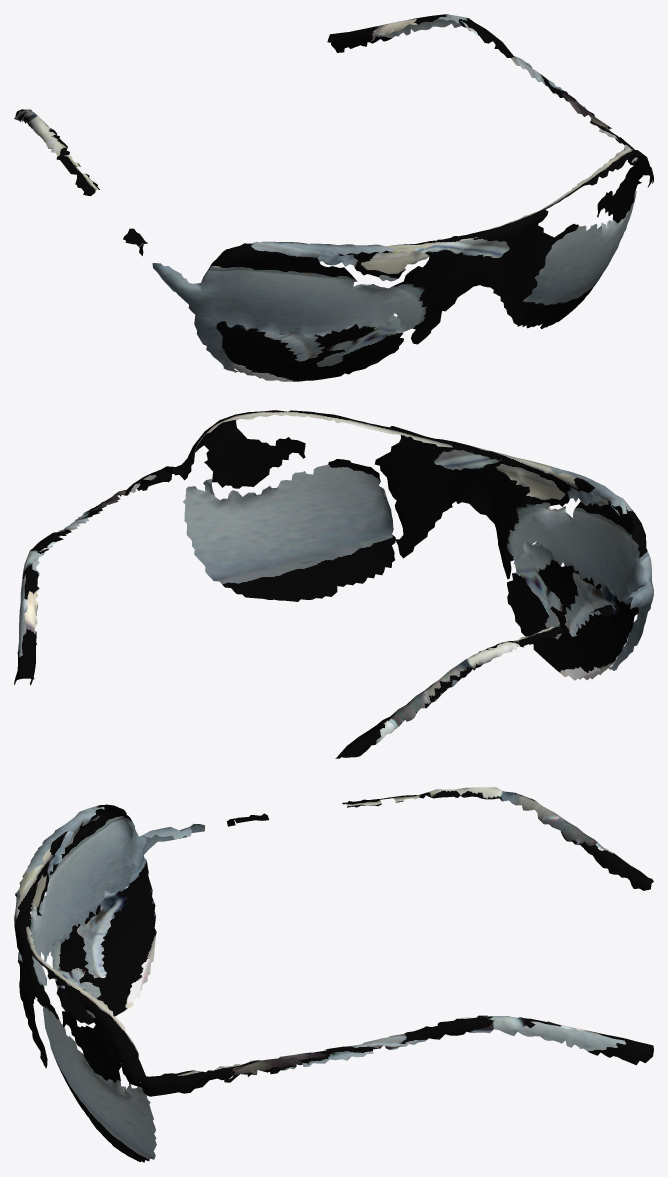
File: scan_align.obj
3 renders of one model, top to bottom at view 1: azimuth 30°, elevation 25°; view 2: azimuth 150°, elevation 25°; view 3: azimuth 270°, elevation 25°, orthographic. The views are drawn at different scales.
Bounding box in the file's own units: 0.1489 × 0.0476 × 0.1555.
